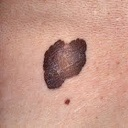Melanoma: (40, 35, 90, 92)
